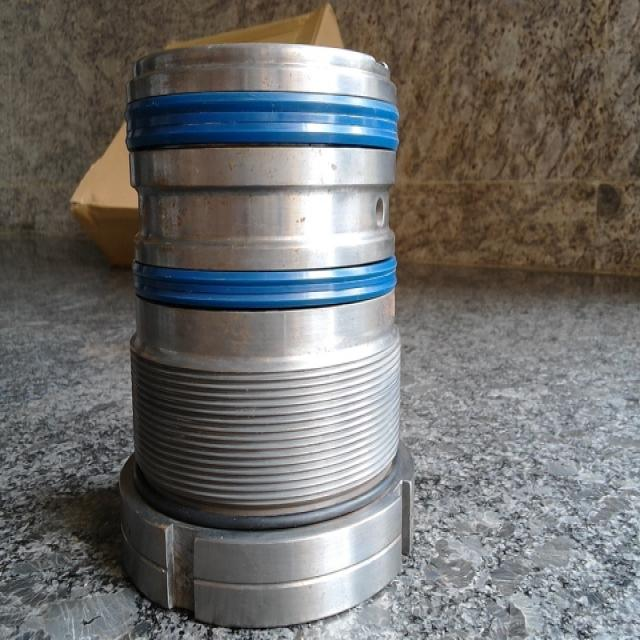black-ring: (126, 430, 410, 535)
purssian-blue-ring: (126, 92, 399, 152), (134, 257, 396, 310)
